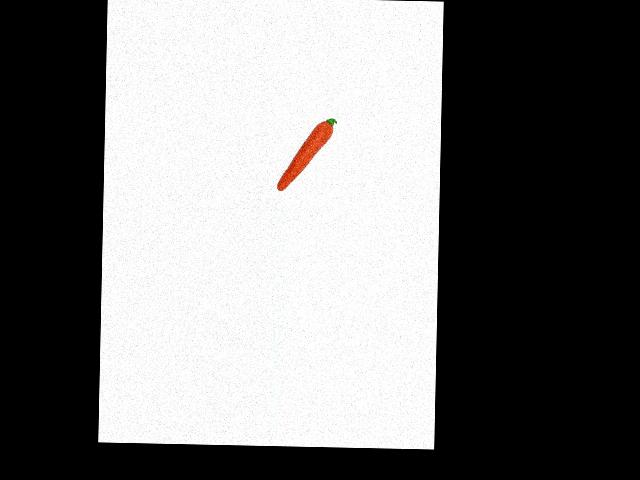carrot: (273, 120, 336, 192)
